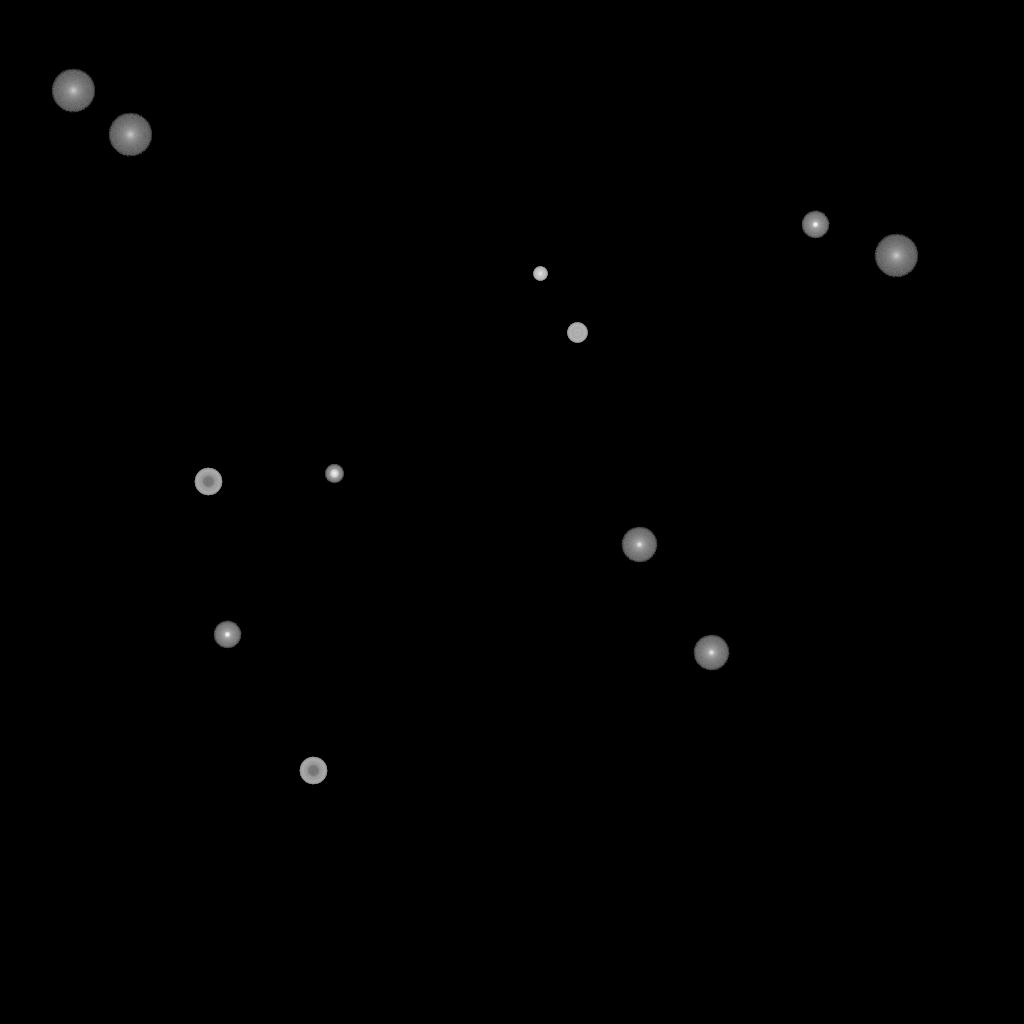depth:-10: (213, 621, 241, 649), (801, 211, 829, 239)
depth:-20: (325, 465, 343, 483)
depth:-30: (533, 267, 547, 281)
depth:-40: (567, 323, 587, 343)
depth:-50: (194, 468, 222, 496), (299, 757, 327, 785)
depth:0: (621, 527, 657, 563), (693, 635, 729, 671)
depth:10: (51, 69, 95, 113), (874, 234, 918, 278), (108, 113, 152, 157)
